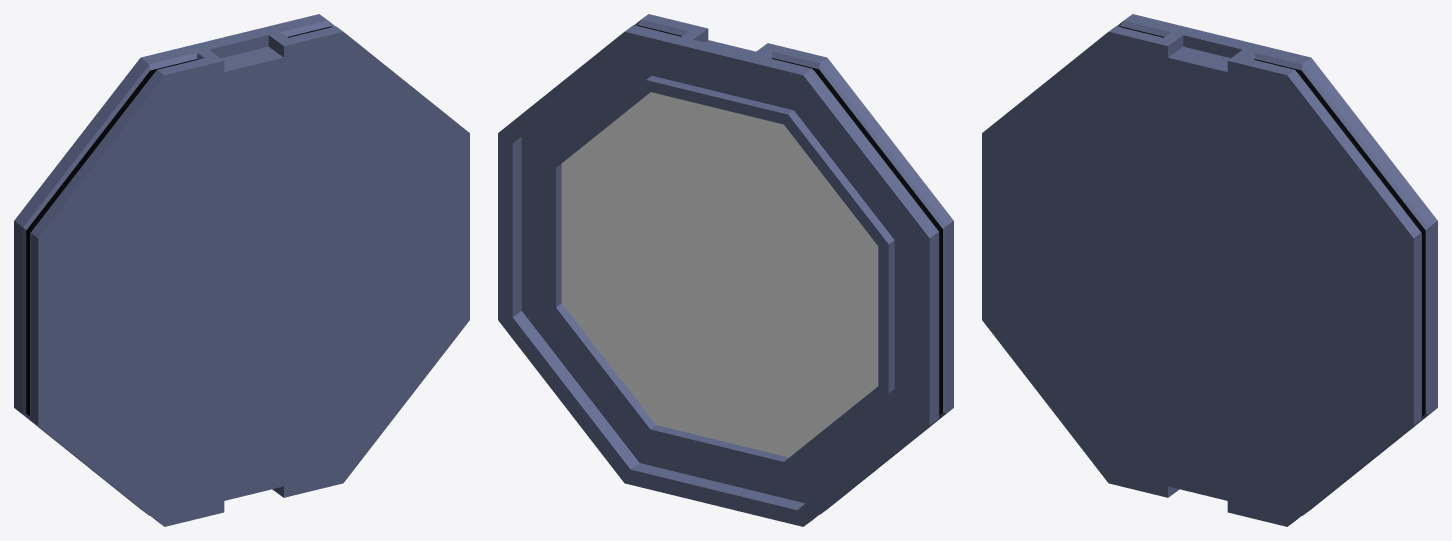
File: Node_Lightbulb.fbx
3 views of the same model, side by side, from view 1: azimuth 30°, elevation 25°; view 2: azimuth 150°, elevation 25°; view 3: azimuth 330°, elevation 25° (orthographic).
Parts seen in each view (by area): view 1: Node_LightbulbBake; view 2: Node_LightbulbBake; view 3: Node_LightbulbBake.
Boxes of the visible parts, x1,y1,x2,y2 form: Node_LightbulbBake: (14,14,469,526); Node_LightbulbBake: (498,14,953,526); Node_LightbulbBake: (982,14,1437,526).
Bounding box in the file's own units: 0.9975 × 0.9975 × 0.0967.
